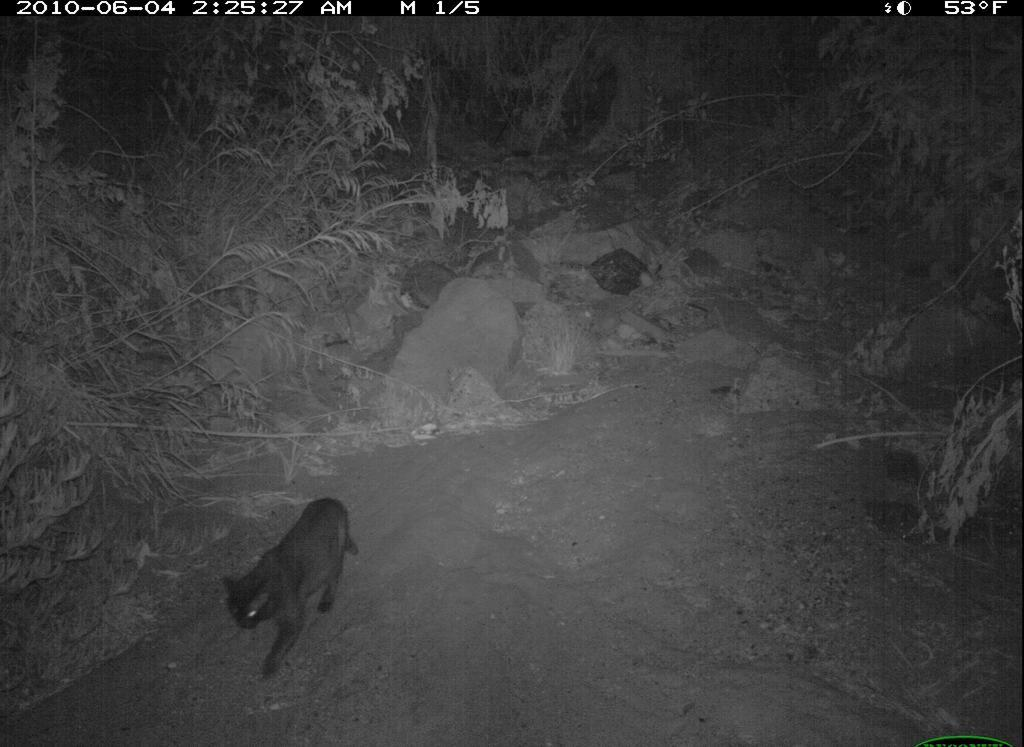cat: (216, 484, 369, 688)
